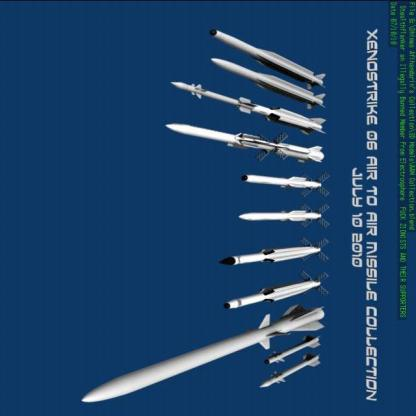MIL_TBM: (216, 268, 331, 312), (214, 236, 341, 269), (232, 171, 327, 194), (234, 204, 323, 224)
